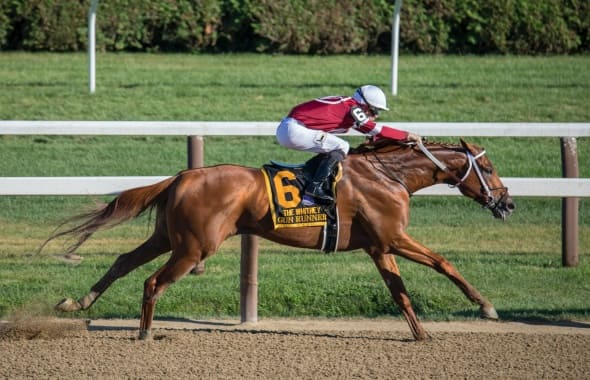horse: (53, 138, 516, 343)
person: (275, 85, 424, 203)
